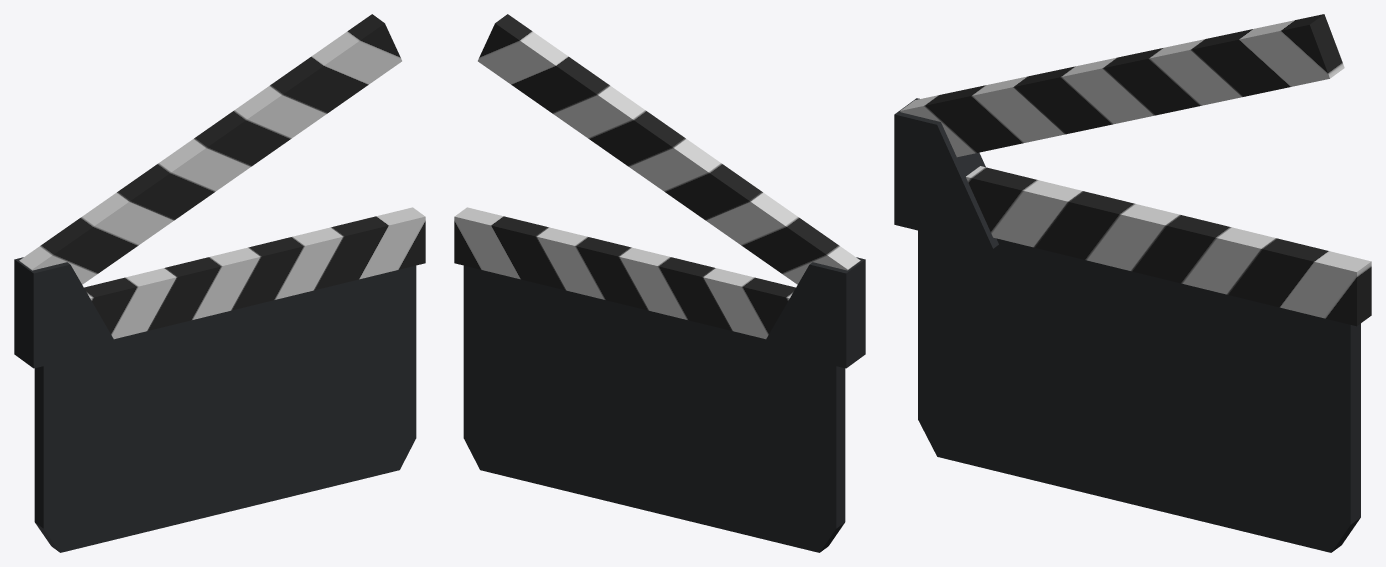
The model's file is SM_Icon_Clapper_01.fbx.
3 renders of one model, left to right at view 1: azimuth 30°, elevation 25°; view 2: azimuth 150°, elevation 25°; view 3: azimuth 330°, elevation 25°, orthographic. The views are drawn at different scales.
Parts seen in each view (by area): view 1: SM_Icon_Clapper_01; view 2: SM_Icon_Clapper_01; view 3: SM_Icon_Clapper_01.
Part boxes in pixels (left/top/right/bottom): SM_Icon_Clapper_01: left=14, top=14, right=425, bottom=552; SM_Icon_Clapper_01: left=454, top=14, right=865, bottom=552; SM_Icon_Clapper_01: left=894, top=14, right=1371, bottom=552.
Bounding box in the file's own units: 54 × 59.08 × 4.56.
